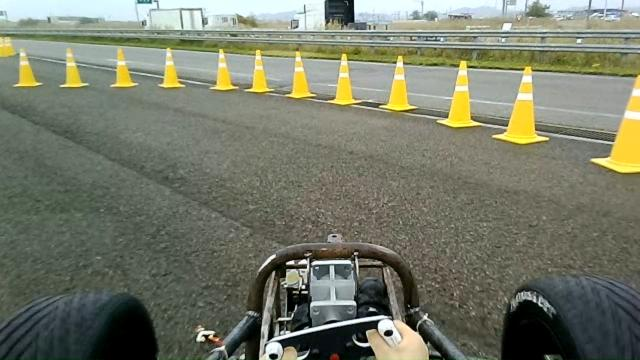yellow cone: (590, 74, 639, 174), (492, 65, 549, 145), (436, 60, 483, 128), (378, 55, 418, 112), (326, 53, 362, 105), (284, 50, 316, 99), (244, 49, 274, 93), (209, 48, 239, 91), (12, 47, 43, 87), (58, 47, 88, 88), (110, 47, 138, 88), (158, 46, 185, 88)
